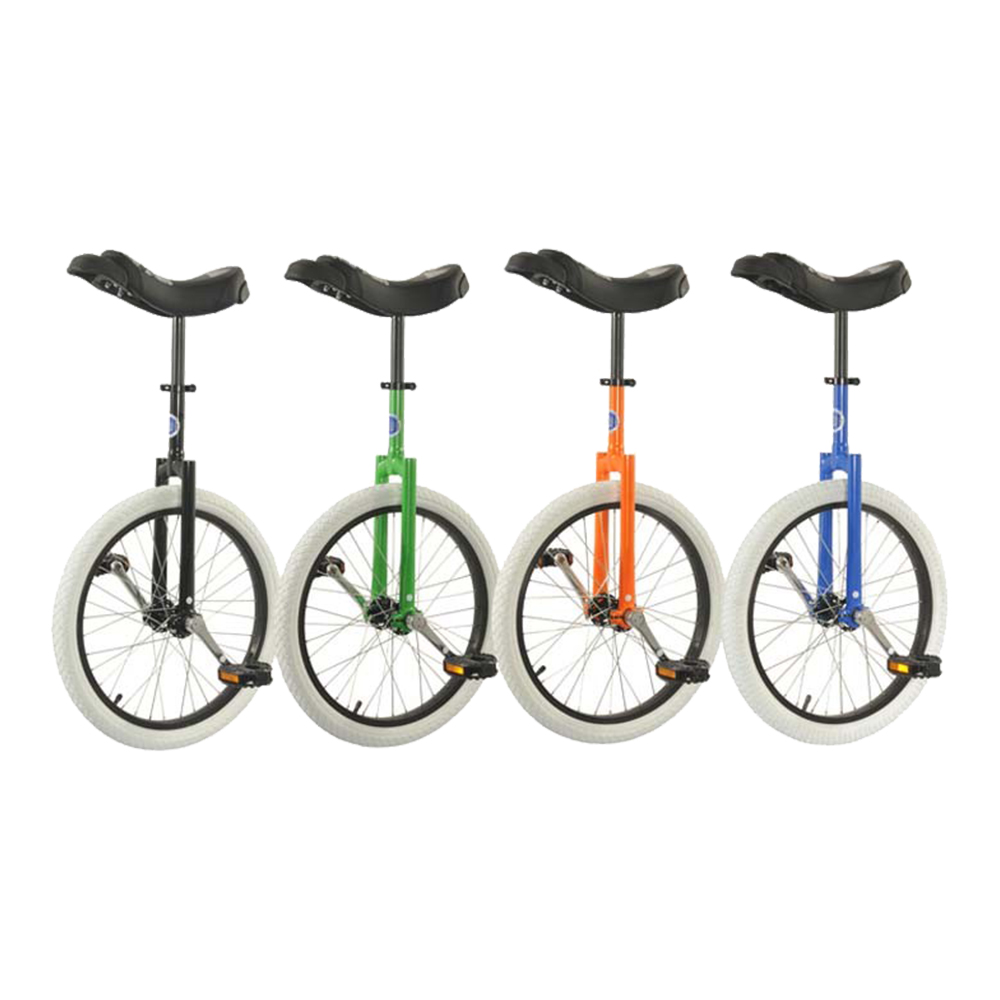seat: (65, 247, 250, 321), (506, 243, 693, 313), (731, 247, 915, 315), (283, 251, 470, 317)
wheel: (489, 489, 726, 745), (57, 485, 279, 756), (723, 482, 950, 746), (273, 485, 498, 749)
